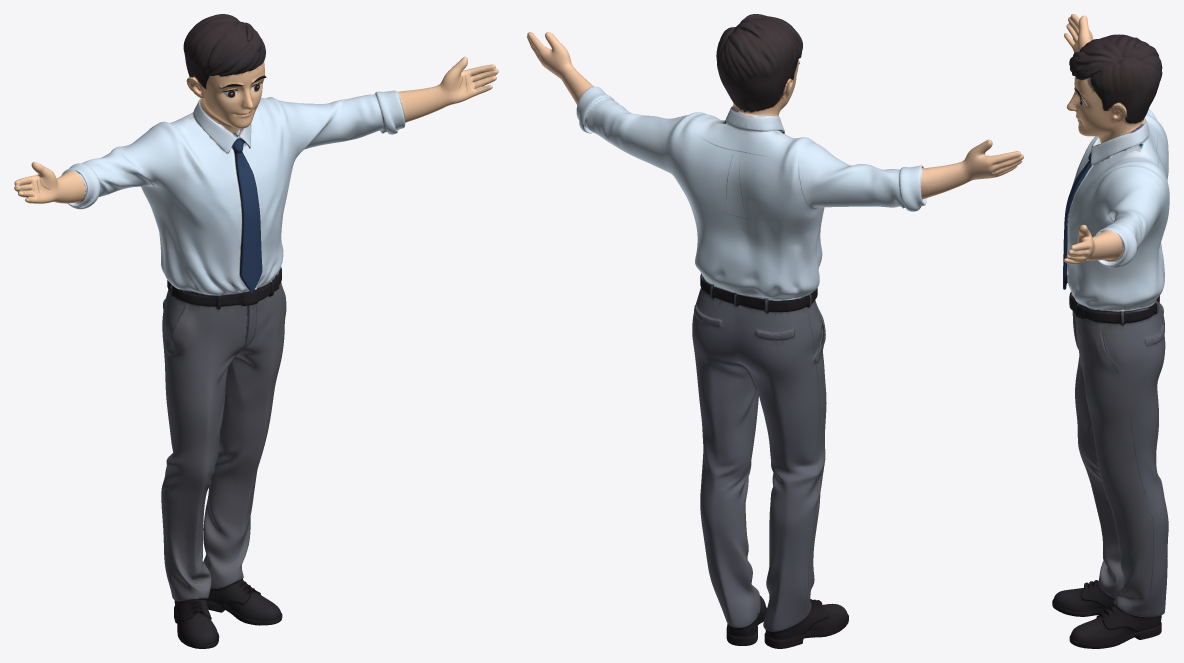
Rendered from open_arms.glb.
3 renders of one model, left to right at view 1: azimuth 30°, elevation 25°; view 2: azimuth 150°, elevation 25°; view 3: azimuth 270°, elevation 25°, orthographic. The views are drawn at different scales.
Bounding box in the file's own units: 1.62 × 1.9 × 0.3409.
Materials: 1 (1 with a texture image).
